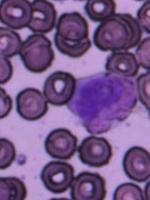M: (68, 70, 138, 134)
